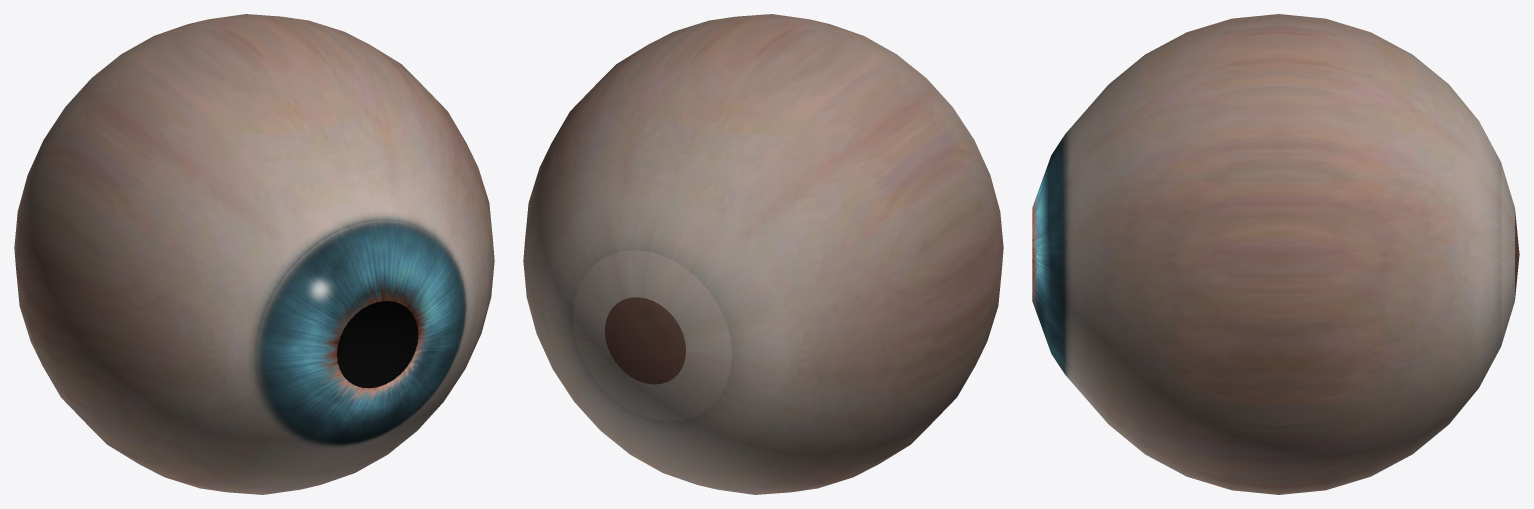
File: eye_model.glb
3 renders of one model, left to right at view 1: azimuth 30°, elevation 25°; view 2: azimuth 150°, elevation 25°; view 3: azimuth 270°, elevation 25°, orthographic.
Parts seen in each view (by area): view 1: Eye; view 2: Eye; view 3: Eye.
Boxes of the visible parts, x1,y1,x2,y2 form: Eye: (14, 14, 494, 494); Eye: (523, 14, 1003, 494); Eye: (1032, 14, 1519, 494).
Size of the model in its own units: 2 by 2 by 2.02.
3 materials, 3 textured.
